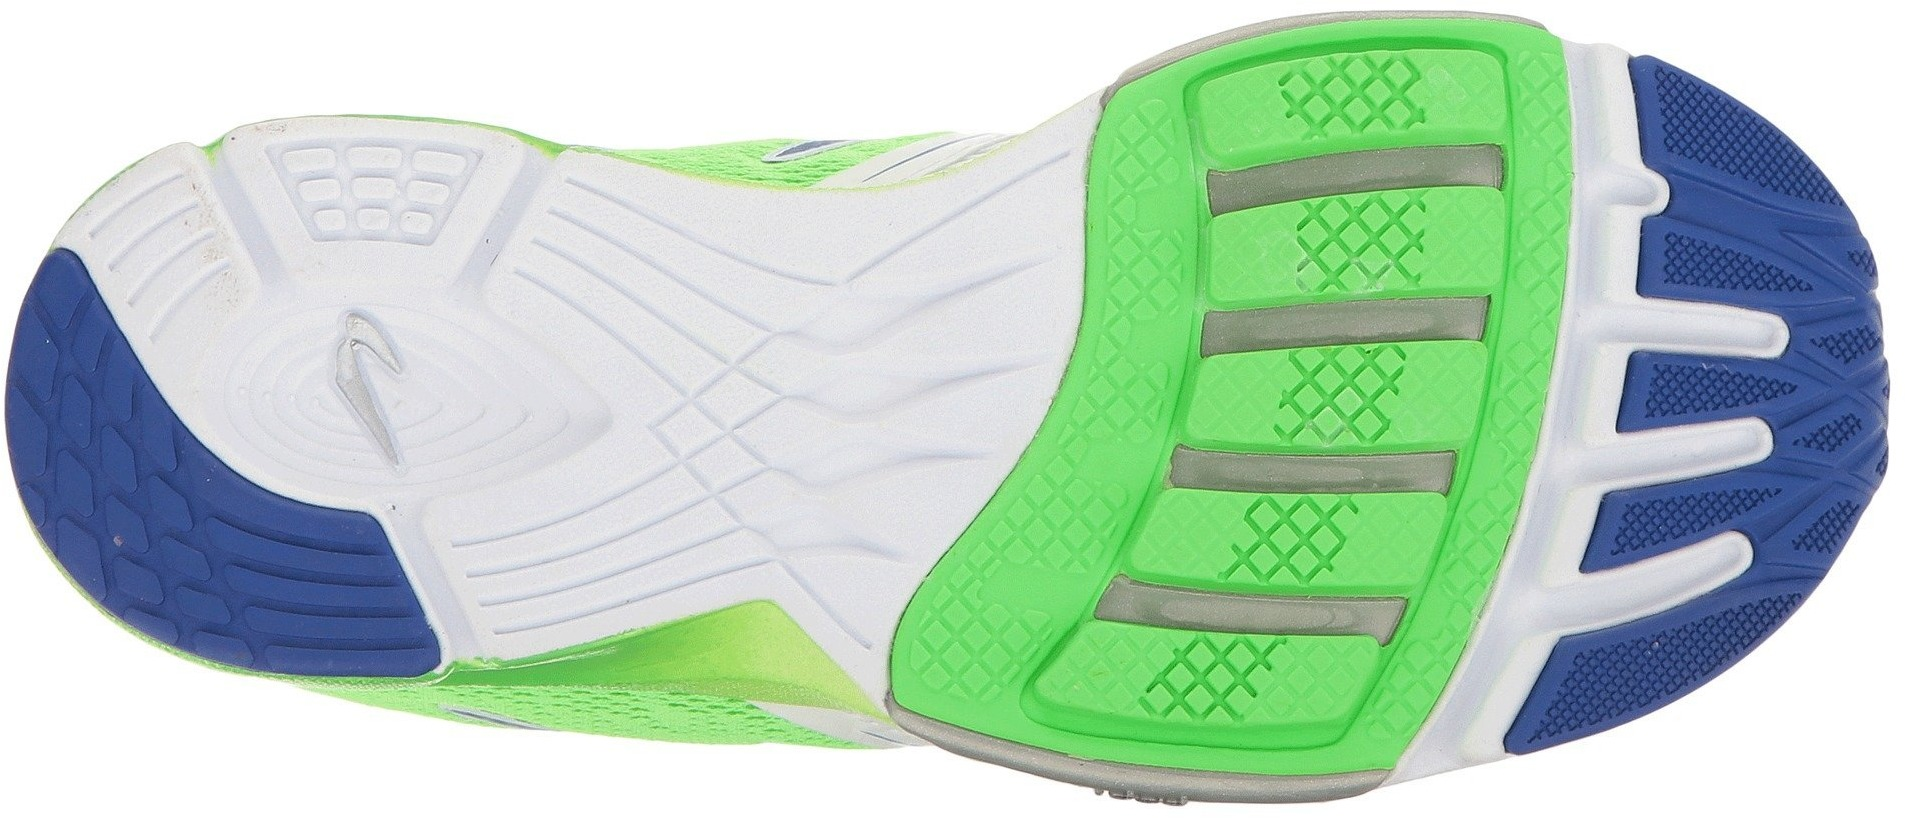line: (553, 224, 955, 577), (111, 202, 217, 304), (473, 536, 567, 636)
quad: (553, 224, 955, 577), (1188, 49, 1496, 357), (1595, 431, 1879, 677), (1626, 192, 1894, 379), (15, 344, 204, 538), (1093, 148, 1197, 284), (1230, 493, 1359, 588), (1287, 349, 1408, 442), (1308, 188, 1420, 289), (1157, 639, 1277, 718), (1024, 456, 1106, 562), (1325, 52, 1421, 136)
ribbon: (1513, 254, 1802, 519), (1459, 526, 1628, 678), (1553, 125, 1688, 250)
triangle: (1595, 431, 1879, 677), (1626, 192, 1894, 379)
